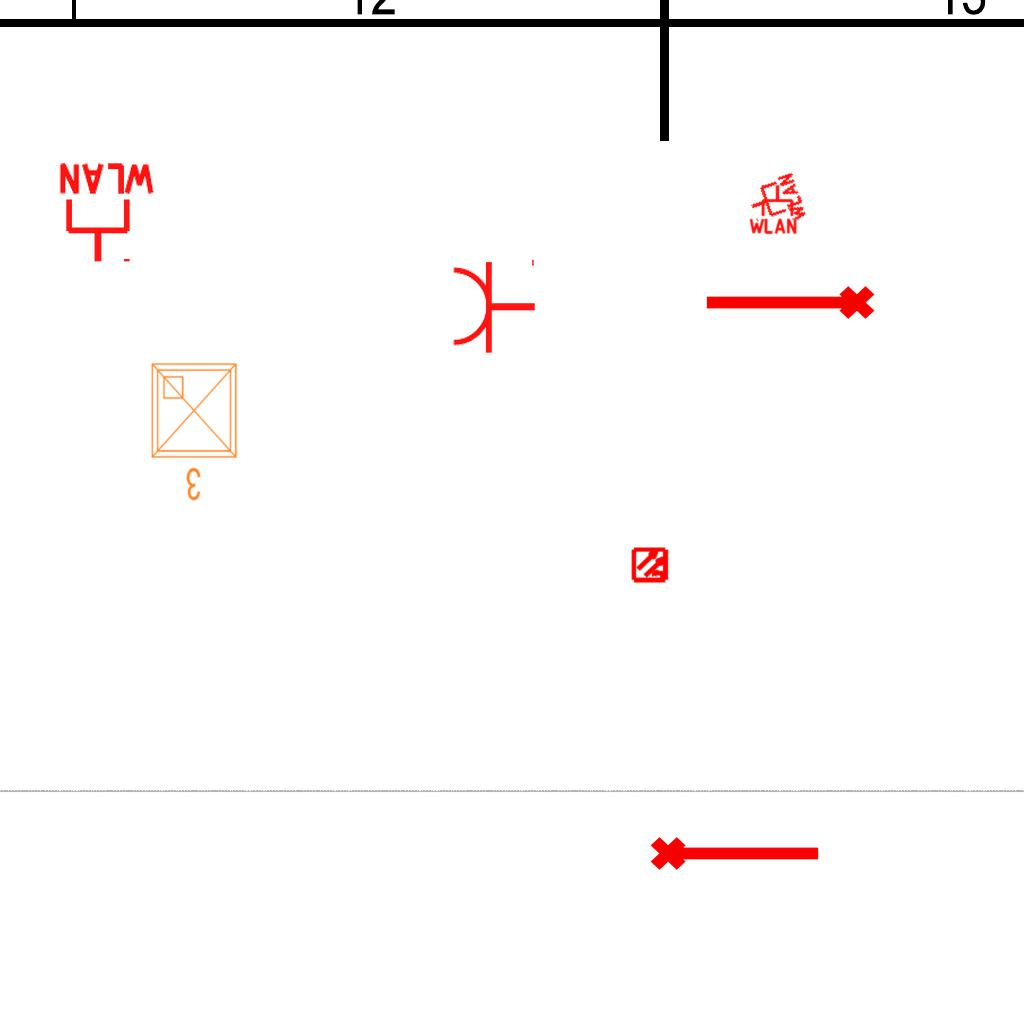ASR_Ansaugoeffnung: (701, 282, 877, 328), (648, 828, 824, 874)
Einbaudownlights_LED_Konferenzraeume: (144, 356, 248, 506)
OT_Multisensormelder_(Kombination_RMO_WMD): (623, 537, 679, 593)
Schukosteckdose_einfach: (450, 255, 537, 355)
WLAN: (55, 161, 159, 266), (742, 169, 810, 237), (747, 183, 799, 235)
